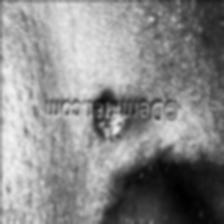Toxin: (94, 99, 124, 140)
